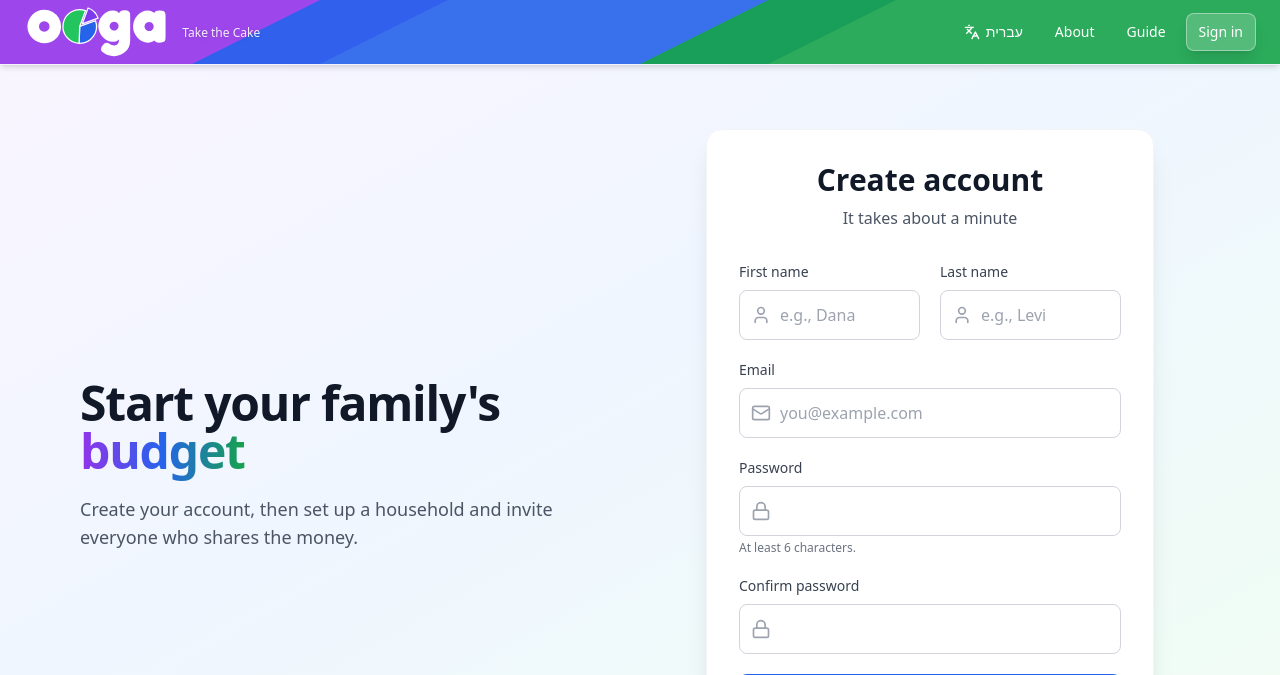
it: Register page › rejects a short password
The width and height of the screenshot is (1280, 675).
In the field labelled "First name": point(830, 315) [739,290,920,340], type " Dana "
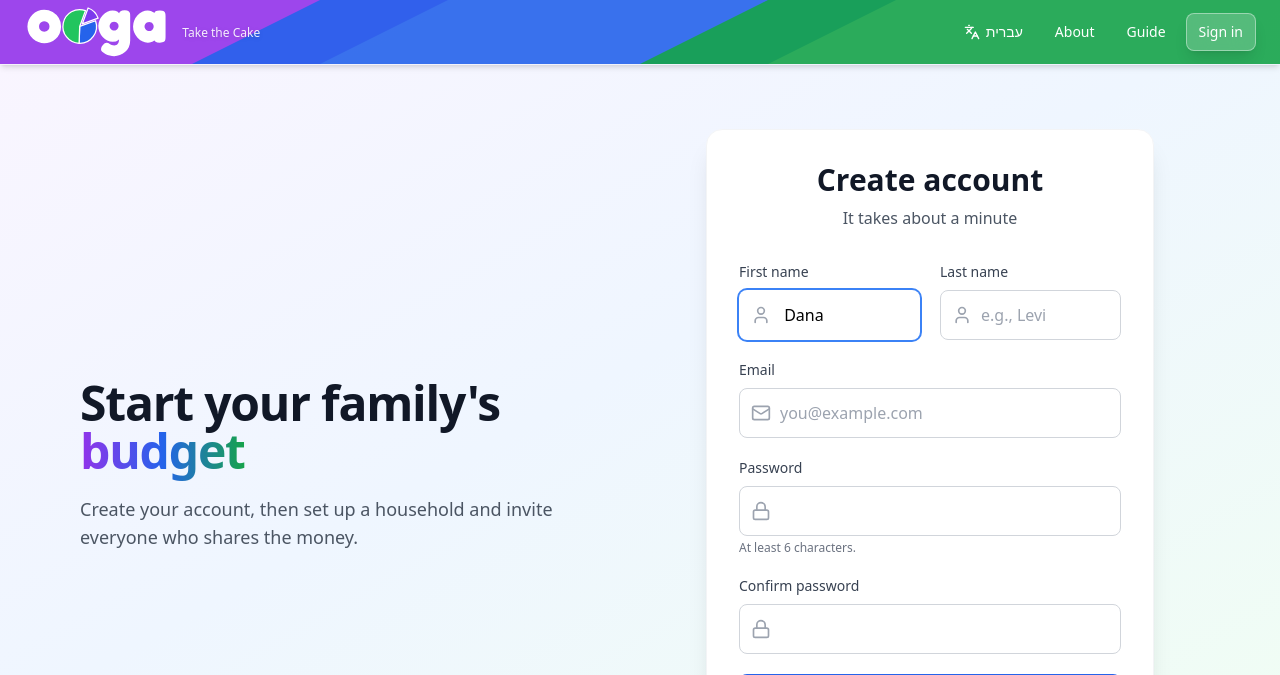
In the field labelled "Last name": point(1030, 315) [940,290,1121,340], type "Levi"
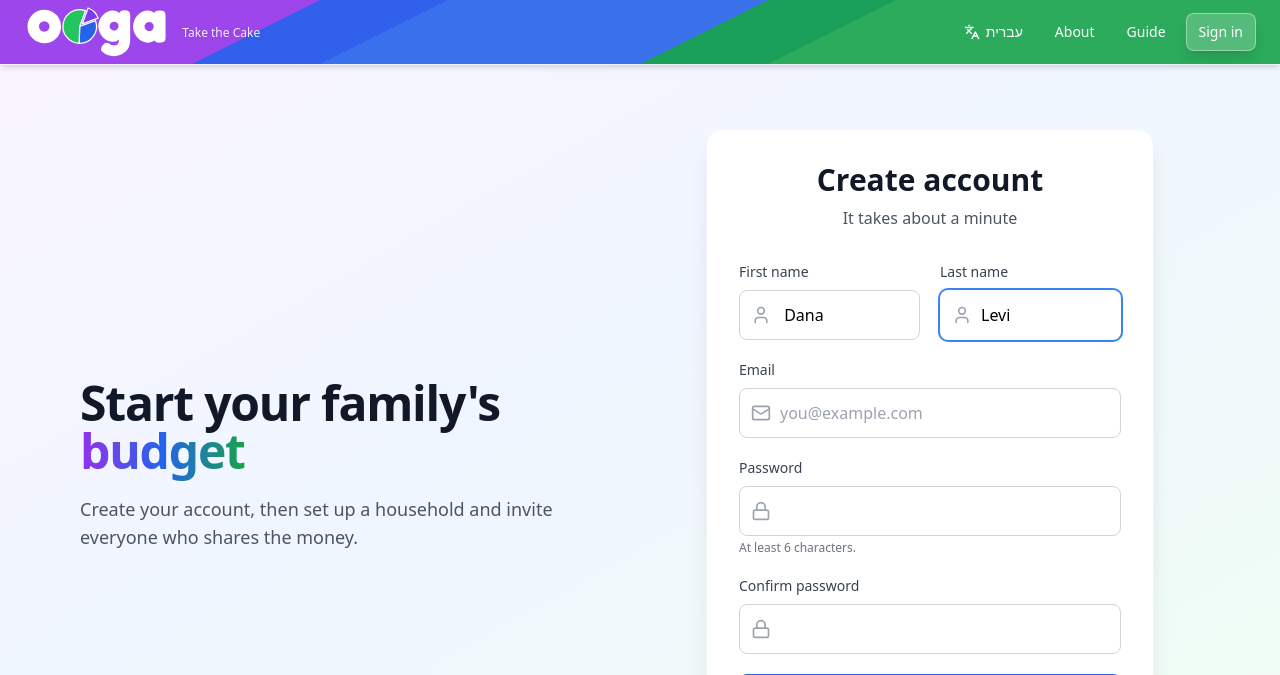
In the field labelled "Email": point(930, 413) [739,388,1121,438], type "dana@example.com"
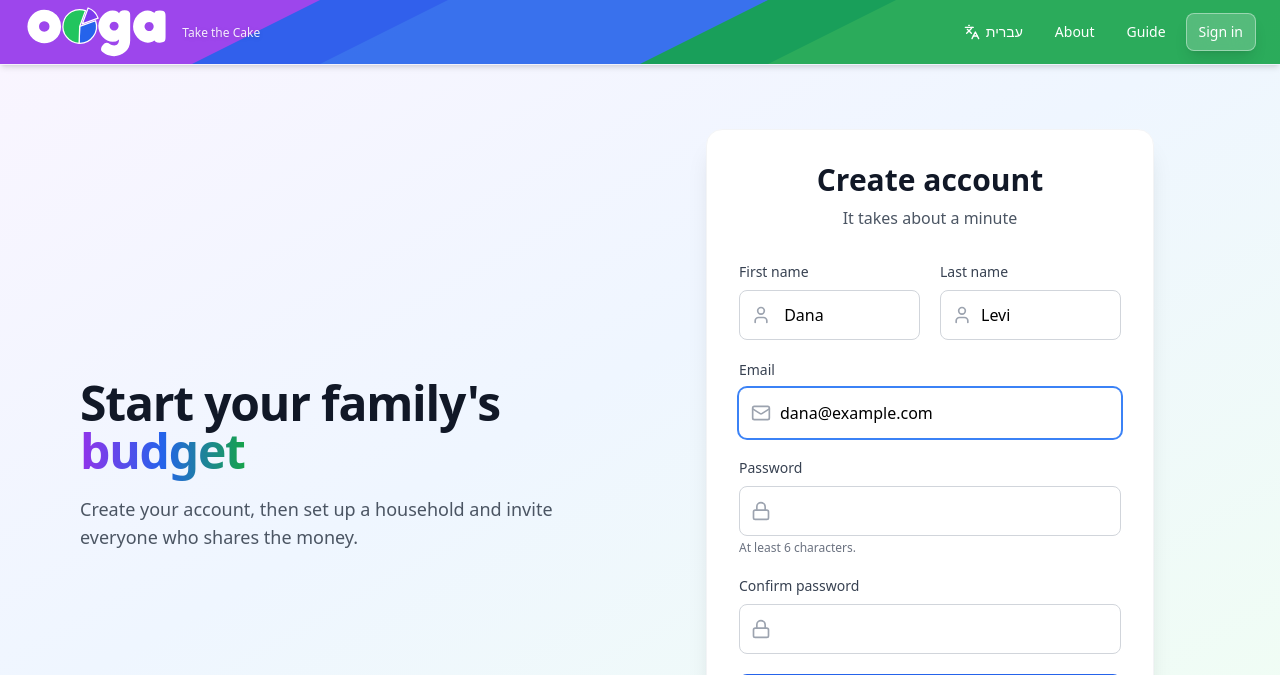
In the password field labelled "Password": point(930, 511) [739,486,1121,536], type "abc"
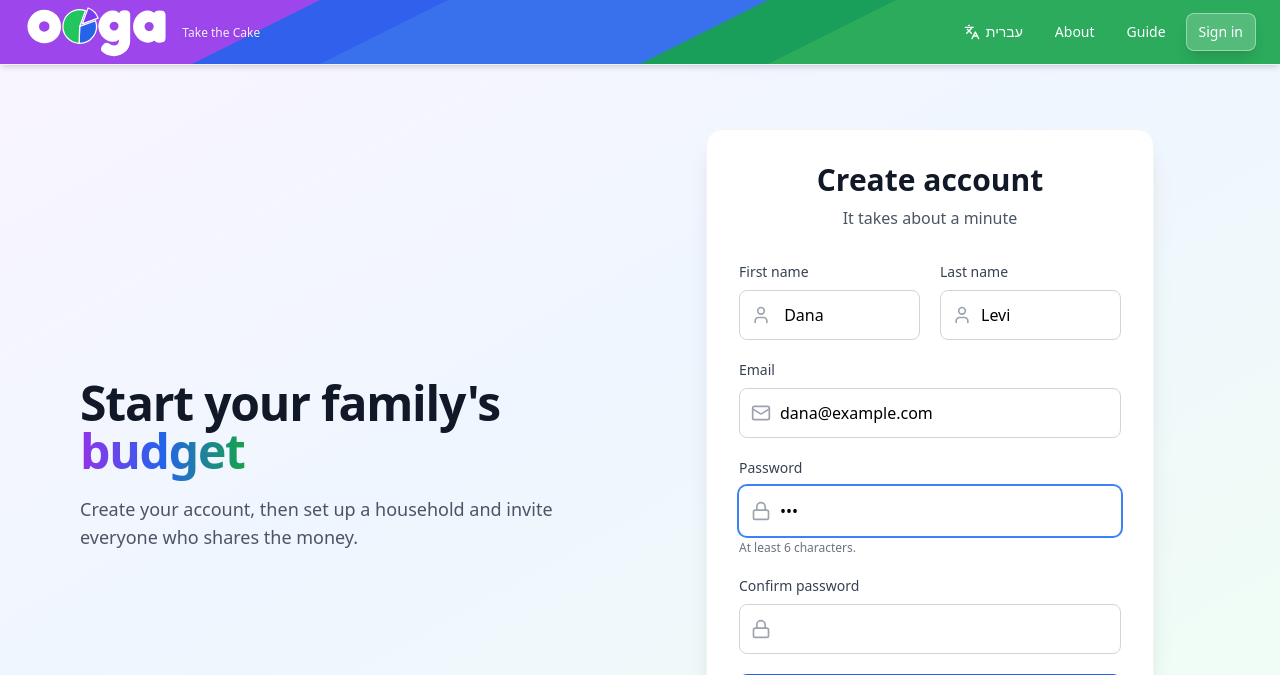
In the password field labelled "Confirm password": point(930, 629) [739,604,1121,654], type "abc"
(page scrolled)
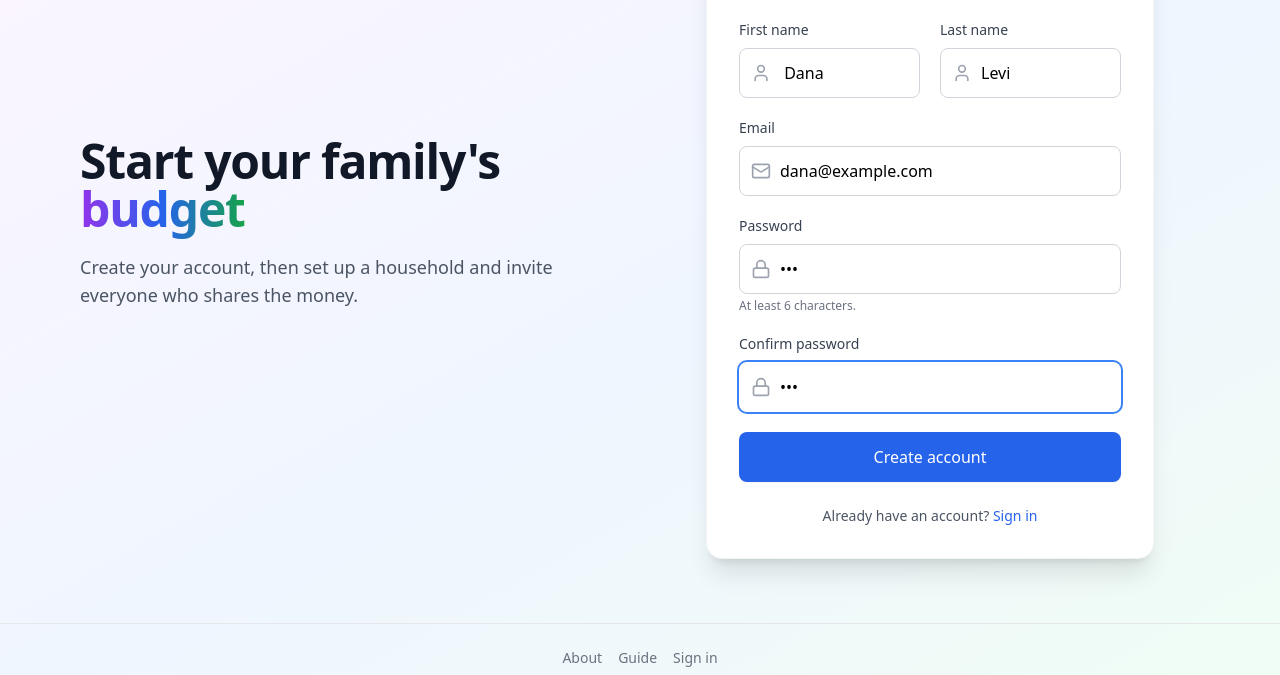
Click the button "Create account": point(930, 457) [739,432,1121,482]
(page scrolled)
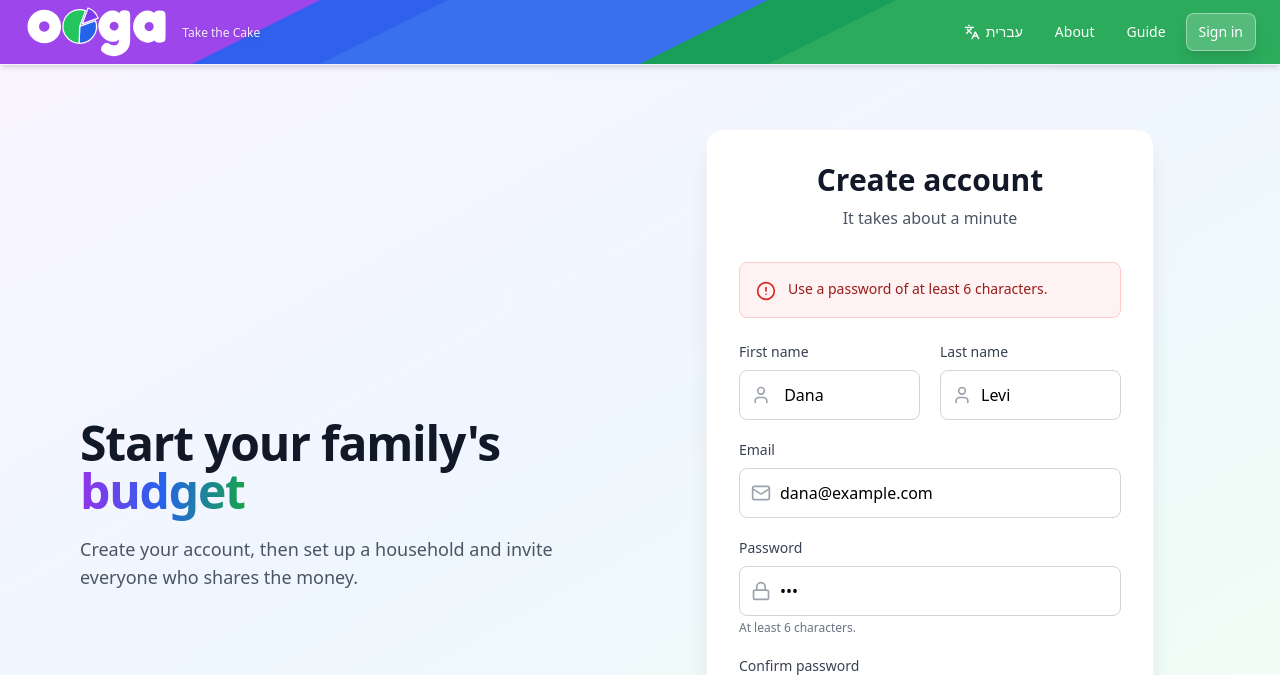
Expected: the message reads "Use a password of at least 6 characters.", [788,279,1048,298]
